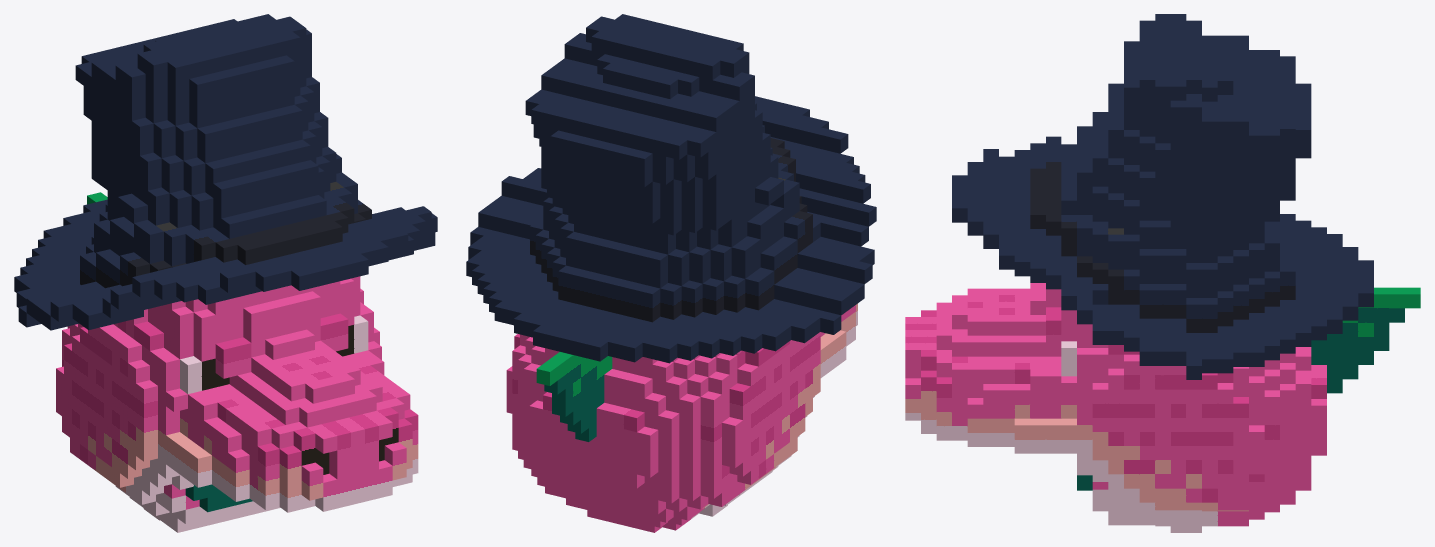
The model's file is top hat_vr goggles.gltf.
3 renders of one model, left to right at view 1: azimuth 30°, elevation 25°; view 2: azimuth 150°, elevation 25°; view 3: azimuth 270°, elevation 25°, orthographic. The views are drawn at different scales.
Visible parts, largest first — view 1: C55_H_TopH_VRGg-Mesh; view 2: C55_H_TopH_VRGg-Mesh; view 3: C55_H_TopH_VRGg-Mesh.
Part boxes in pixels (x1=…): C55_H_TopH_VRGg-Mesh: x1=14, y1=14, x2=437, y2=532; C55_H_TopH_VRGg-Mesh: x1=466, y1=14, x2=876, y2=532; C55_H_TopH_VRGg-Mesh: x1=905, y1=14, x2=1420, y2=532.
Bounding box in the file's own units: 27 × 32 × 33.
1 material, 1 textured.
